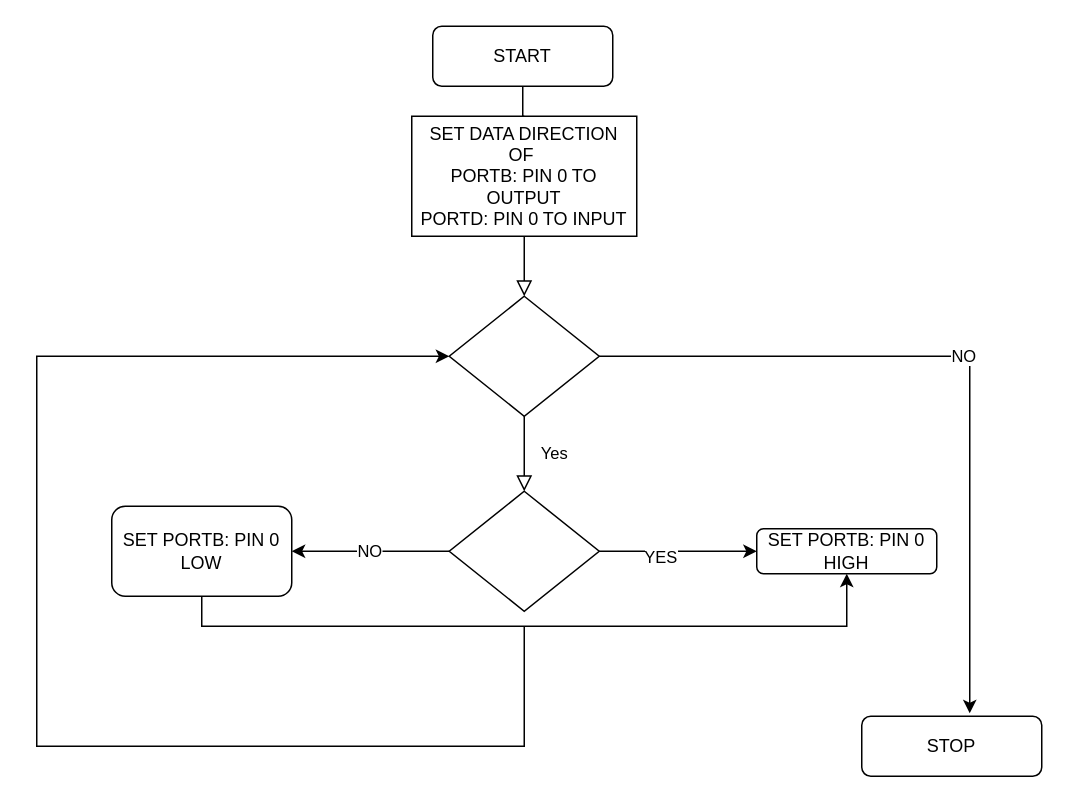
Some shapes in this 1068 by 803 pixel diagram are drawn without their labels. Here are the shapes that lost their labels. From the top down, the centre of each, then its label:
point 523,355: TRUE
point 523,550: PORTD:PIN 0 HIGH?
